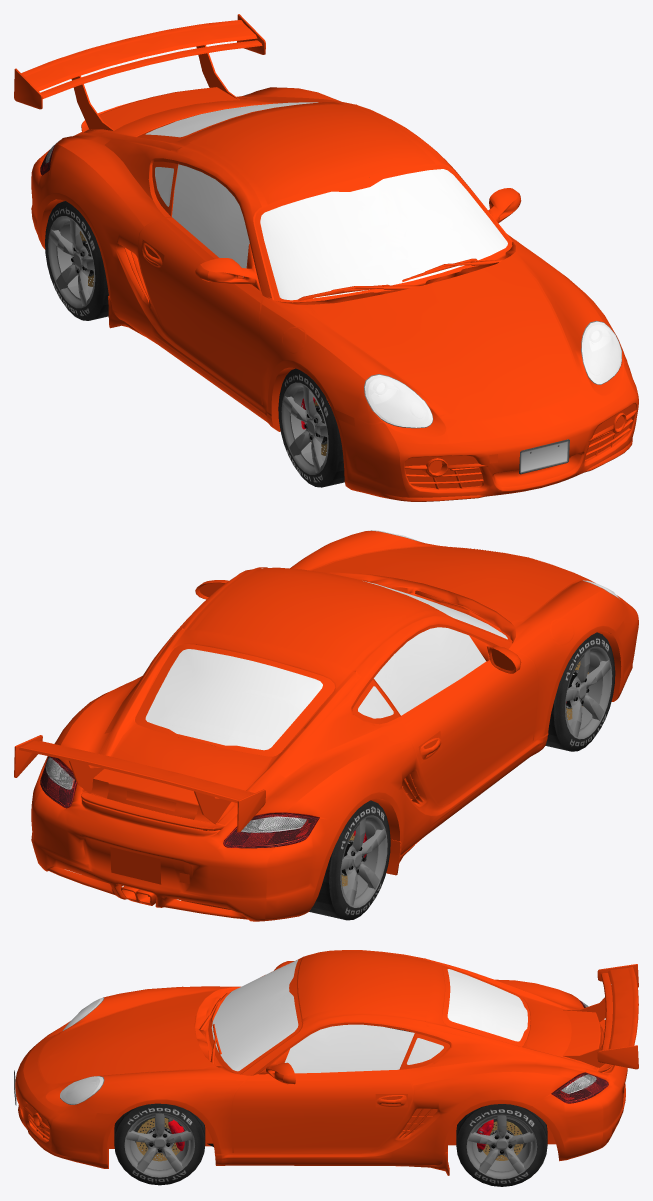
Rendered from porsche-cayman-vray.fbx.
3 views of the same model, one above another, from view 1: azimuth 30°, elevation 25°; view 2: azimuth 150°, elevation 25°; view 3: azimuth 270°, elevation 25° (orthographic). The views are drawn at different scales.
Parts seen in each view (by area): view 1: Body, Base_Detached, Hood, Base, SuperSpoiler, TireFR, TireRR, USpoiler, HLightRG, Spoiler, HLightLG, MirrorR (+2 smaller); view 2: Body, Base, Base_Detached, Hood, USpoiler, Spoiler, TireRR, TireFR, SuperSpoiler, BLightR, BLightL, MirrorR; view 3: Body, Base, Base_Detached, Hood, TireRL, TireFL, USpoiler, SuperSpoiler, Spoiler, BLightL, HLightLG, BrakeFL (+2 smaller).
Part boxes in pixels (bbox=[...]): Body: bbox=[31, 87, 638, 501]; Base_Detached: bbox=[145, 102, 507, 300]; Hood: bbox=[311, 256, 579, 420]; Base: bbox=[105, 102, 515, 304]; SuperSpoiler: bbox=[14, 14, 265, 109]; TireFR: bbox=[278, 368, 344, 487]; TireRR: bbox=[45, 201, 108, 320]; USpoiler: bbox=[71, 45, 354, 150]; HLightRG: bbox=[364, 375, 432, 427]; Spoiler: bbox=[84, 96, 324, 145]; HLightLG: bbox=[582, 321, 621, 384]; MirrorR: bbox=[195, 243, 260, 290]; Body: bbox=[31, 531, 638, 921]; Base: bbox=[104, 567, 515, 777]; Base_Detached: bbox=[145, 581, 507, 750]; Hood: bbox=[314, 547, 579, 621]; USpoiler: bbox=[69, 629, 356, 824]; Spoiler: bbox=[85, 642, 339, 826]; TireRR: bbox=[309, 800, 390, 920]; TireFR: bbox=[545, 632, 615, 751]; SuperSpoiler: bbox=[14, 735, 265, 832]; BLightR: bbox=[223, 812, 319, 848]; BLightL: bbox=[40, 756, 76, 808]; MirrorR: bbox=[469, 635, 521, 673]; Body: bbox=[15, 951, 627, 1175]; Base: bbox=[194, 950, 536, 1075]; Base_Detached: bbox=[211, 960, 527, 1073]; Hood: bbox=[39, 992, 213, 1083]; TireRL: bbox=[456, 1104, 547, 1186]; TireFL: bbox=[114, 1103, 205, 1185]; USpoiler: bbox=[426, 959, 605, 1070]; SuperSpoiler: bbox=[597, 964, 638, 1069]; Spoiler: bbox=[441, 965, 597, 1070]; BLightL: bbox=[551, 1072, 608, 1103]; HLightLG: bbox=[60, 1076, 103, 1104]; BrakeFL: bbox=[136, 1118, 184, 1161].
Size of what is drawn, in the model's own units: 1.96 by 1.26 by 4.42.
Materials: 17 (11 with a texture image).
